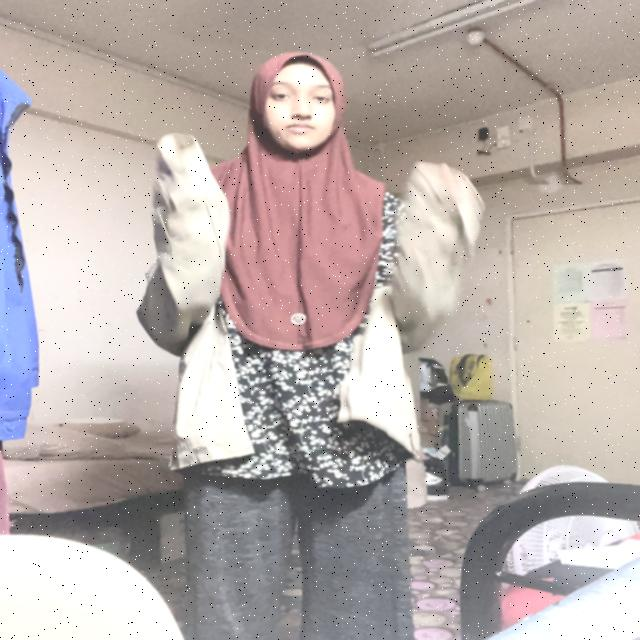person_without_labcoat: (142, 52, 483, 640)
